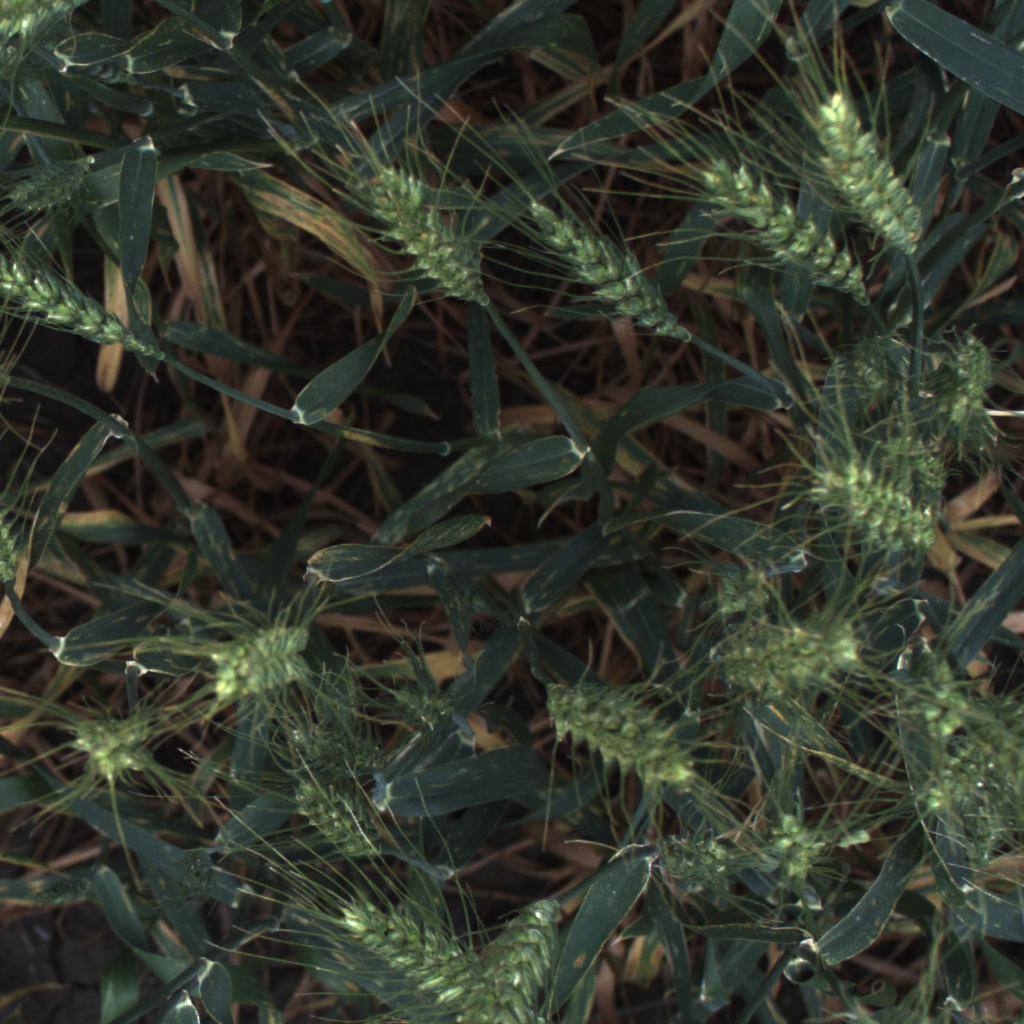0-0: (525, 185, 702, 359), (684, 161, 881, 313), (0, 240, 174, 369), (534, 664, 721, 784), (807, 87, 927, 261), (367, 154, 492, 302), (446, 886, 577, 1024), (329, 893, 488, 1005), (790, 457, 949, 564), (718, 619, 890, 705), (207, 606, 329, 705), (61, 691, 164, 797), (935, 313, 1006, 461), (285, 772, 393, 868), (919, 721, 1011, 819), (284, 721, 393, 801), (4, 154, 101, 230), (658, 819, 737, 887), (400, 671, 478, 736), (761, 799, 825, 875), (1, 491, 31, 601), (0, 0, 80, 41), (712, 566, 774, 618)
